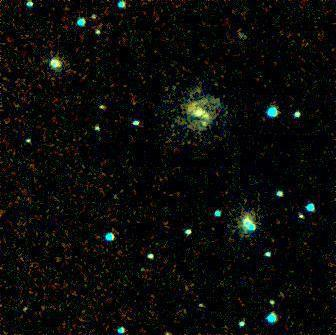star: (189, 105, 219, 135)
